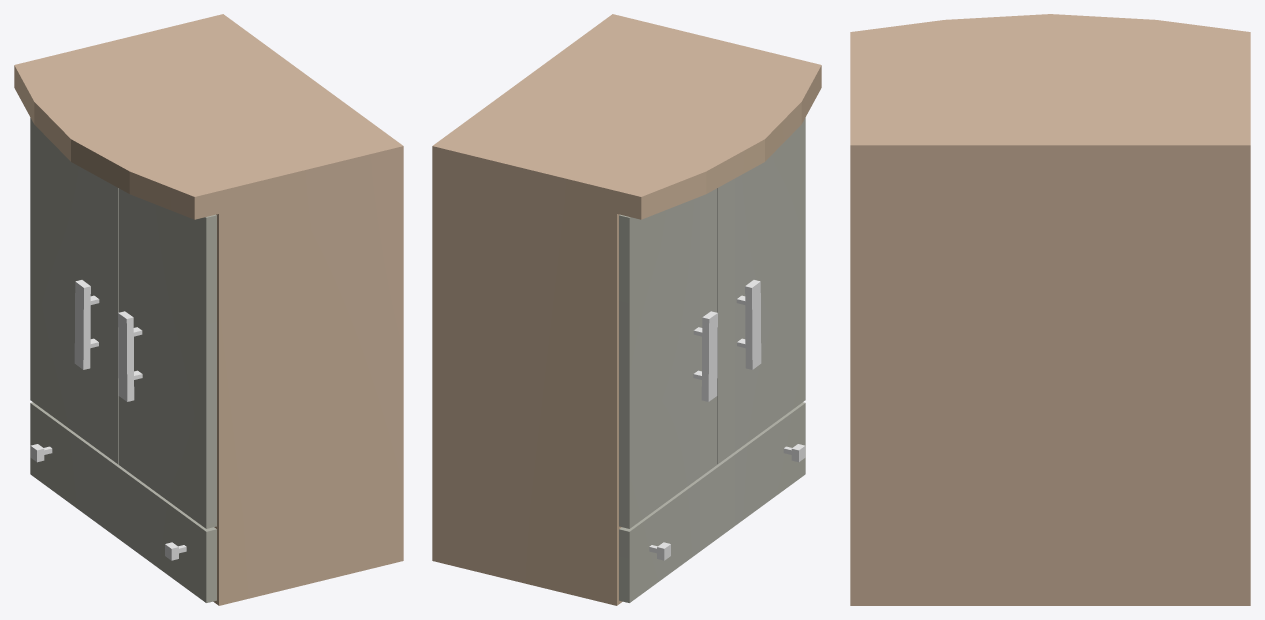
Rendered from shkafmini.fbx.
3 views of the same model, side by side, from view 1: azimuth 30°, elevation 25°; view 2: azimuth 150°, elevation 25°; view 3: azimuth 270°, elevation 25° (orthographic). The views are drawn at different scales.
Parts seen in each view (by area): view 1: Cube.019; view 2: Cube.019; view 3: Cube.019.
Part boxes in pixels (bbox=[...]): Cube.019: bbox=[14, 14, 403, 605]; Cube.019: bbox=[432, 14, 821, 605]; Cube.019: bbox=[850, 14, 1250, 605].
Size of the model in its own units: 263 by 430 by 339.
